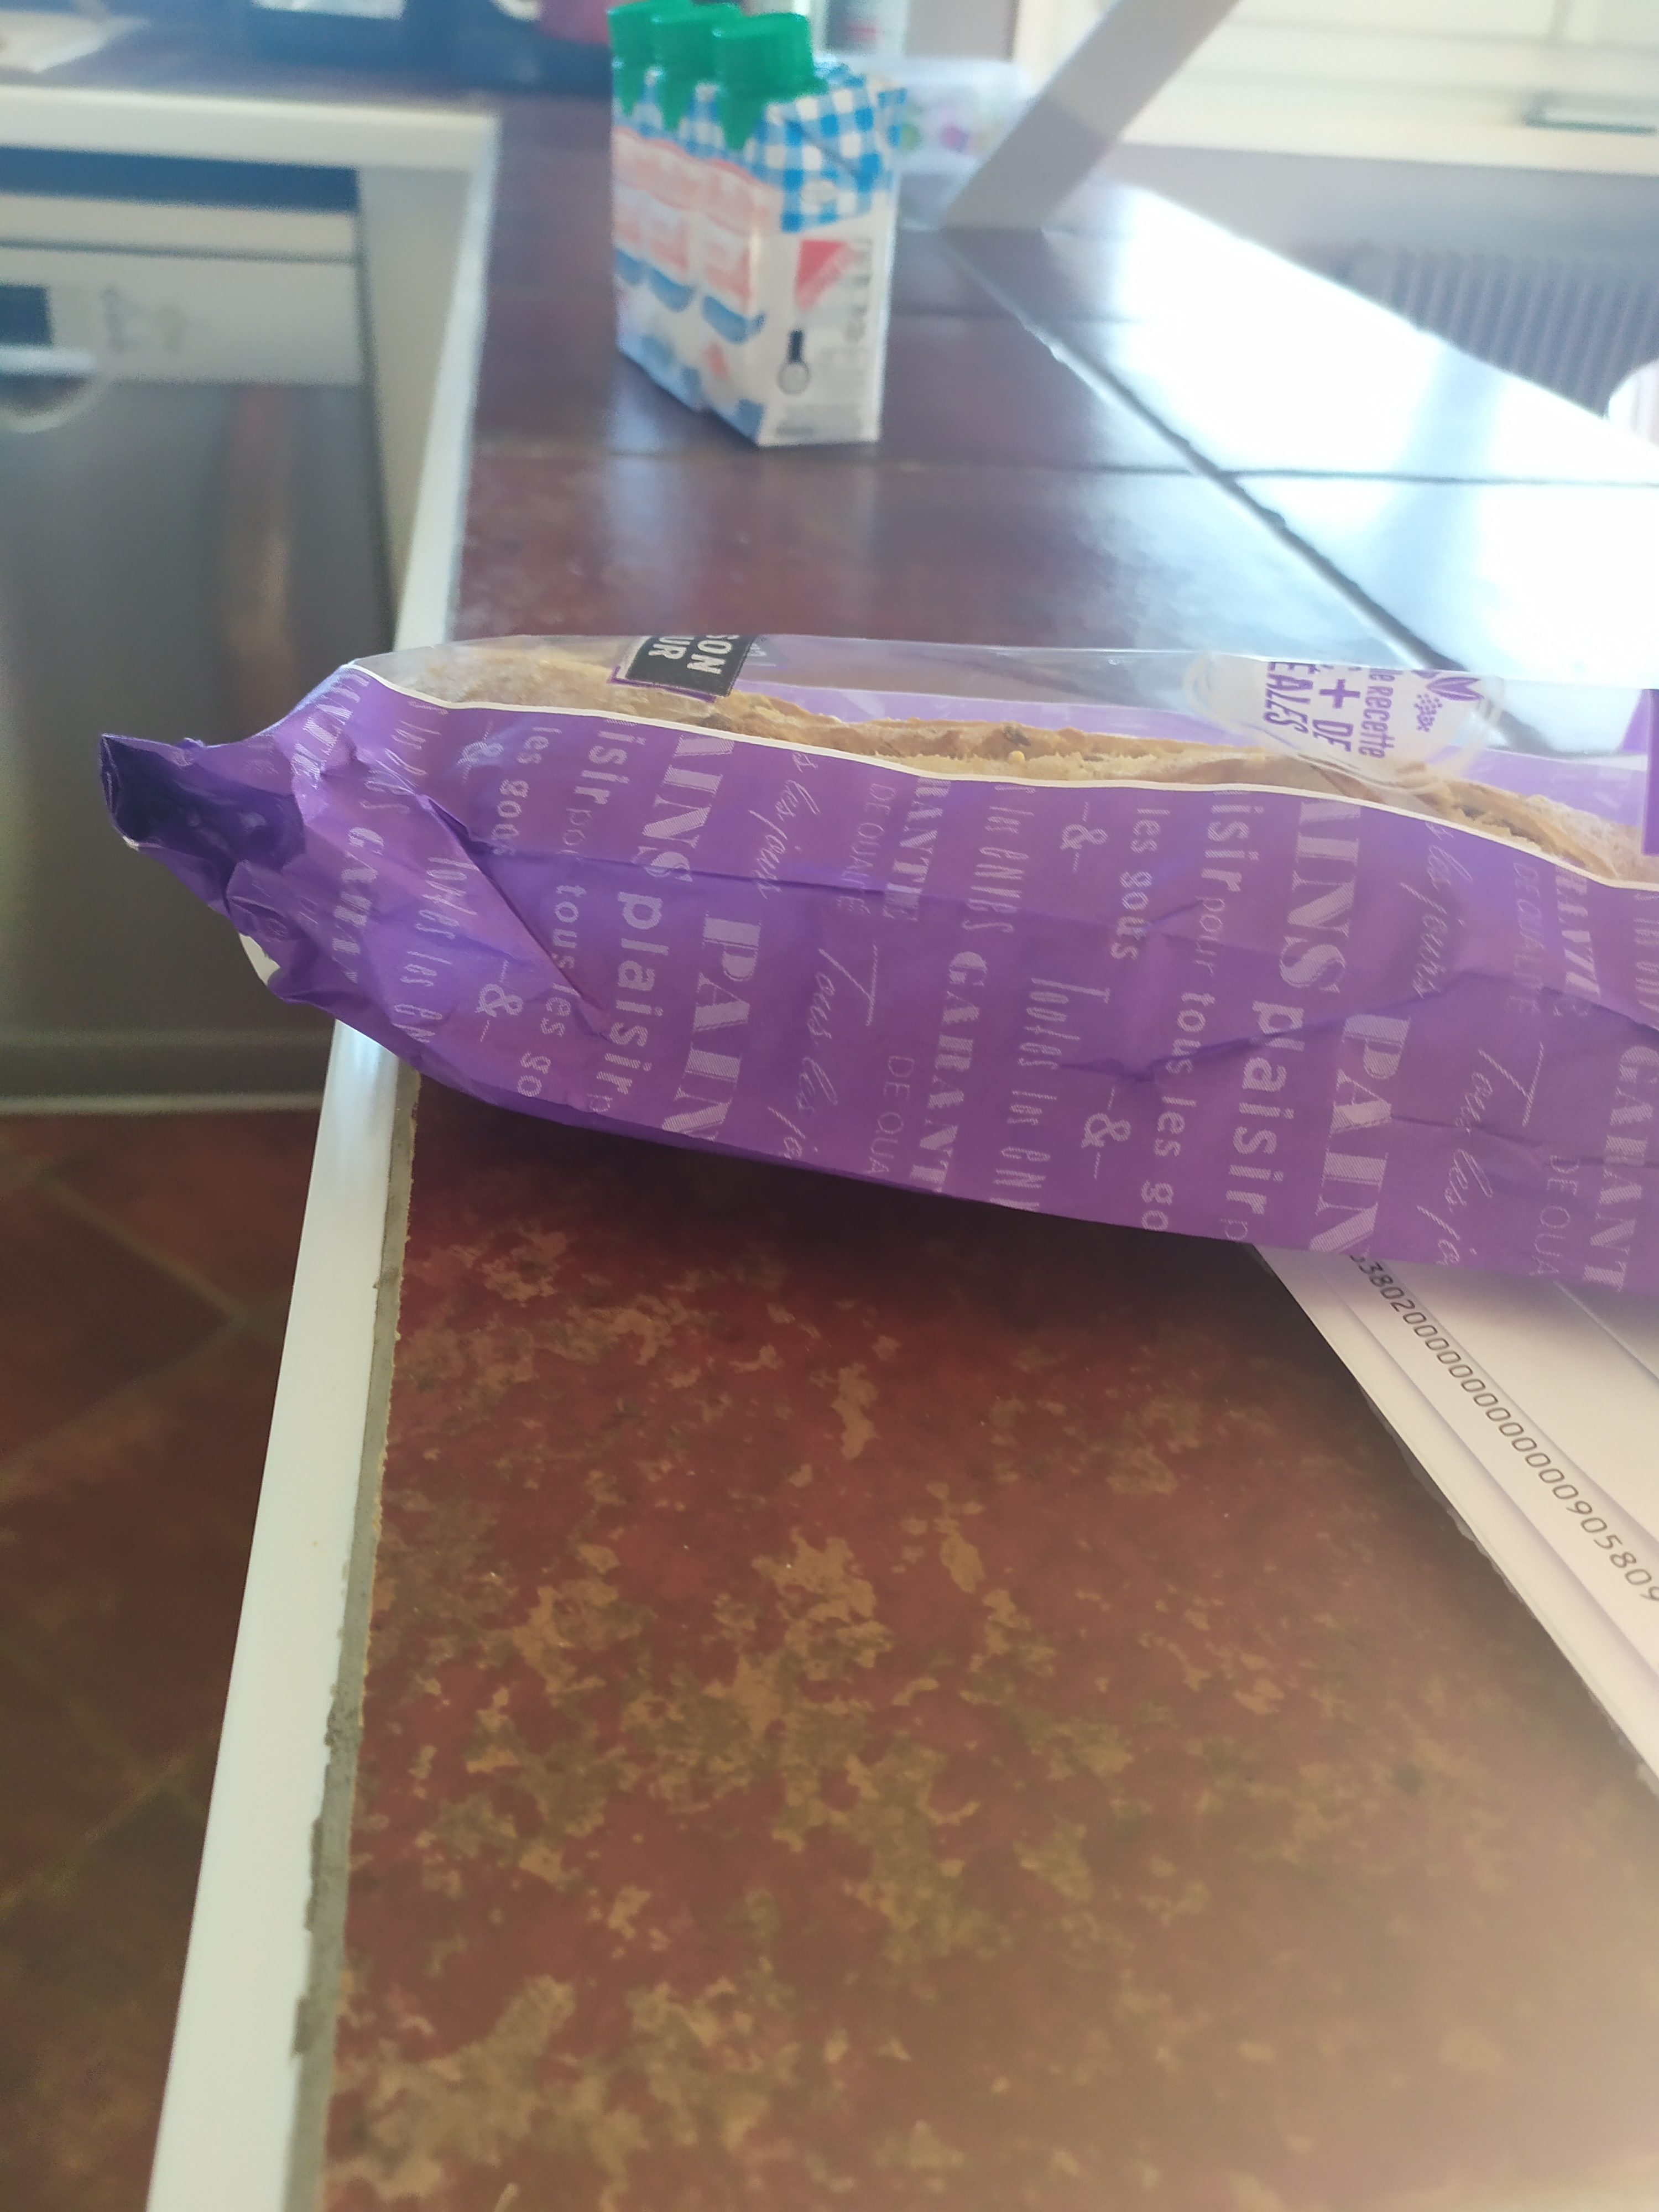cream: (697, 12, 904, 448), (640, 0, 830, 399), (605, 0, 734, 376)
